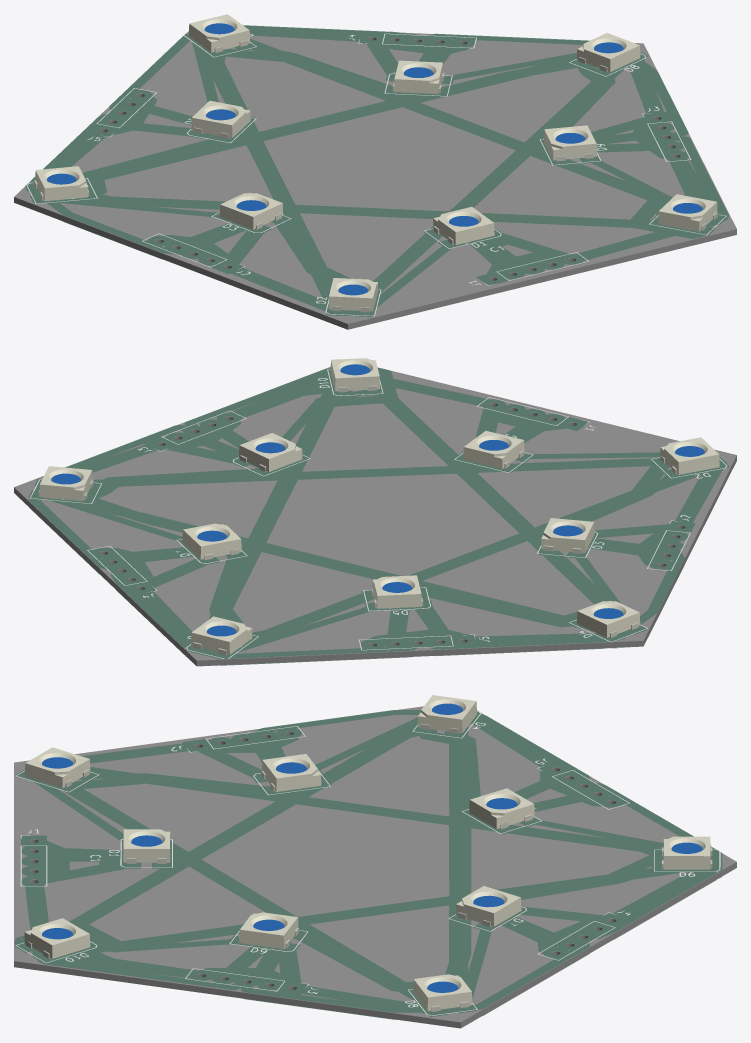
The picture shows the model from 3 angles, top to bottom: view 1: azimuth 30°, elevation 25°; view 2: azimuth 150°, elevation 25°; view 3: azimuth 270°, elevation 25°; orthographic projection. The views are drawn at different scales.
Parts seen in each view (by area): view 1: =>[0:1:1:5], =>[0:1:1:4], =>[0:1:1:3], D8, D3, D6, D1, D10, D5, D4, D9, D7 (+1 smaller); view 2: =>[0:1:1:5], =>[0:1:1:4], =>[0:1:1:3], D9, D4, D1, D6, D7, D2, D8, D3, D5 (+1 smaller); view 3: =>[0:1:1:5], =>[0:1:1:4], =>[0:1:1:3], D5, D2, D10, D7, D3, D4, D9, D8, D6 (+1 smaller).
Boxes of the visible parts, left/top/right/bottom form: =>[0:1:1:5]: left=14, top=26, right=736, bottom=329; =>[0:1:1:4]: left=21, top=25, right=729, bottom=316; =>[0:1:1:3]: left=26, top=32, right=726, bottom=316; D8: left=577, top=33, right=640, bottom=72; D3: left=219, top=193, right=283, bottom=229; D6: left=189, top=14, right=250, bottom=52; D1: left=433, top=206, right=494, bottom=244; D10: left=658, top=194, right=717, bottom=231; D5: left=191, top=100, right=250, bottom=138; D4: left=34, top=166, right=89, bottom=201; D9: left=544, top=125, right=596, bottom=161; D7: left=392, top=60, right=444, bottom=93; =>[0:1:1:5]: left=14, top=367, right=736, bottom=666; =>[0:1:1:4]: left=28, top=367, right=729, bottom=665; =>[0:1:1:3]: left=30, top=369, right=727, bottom=658; D9: left=239, top=433, right=302, bottom=471; D4: left=577, top=601, right=640, bottom=637; D1: left=463, top=431, right=524, bottom=468; D6: left=191, top=616, right=252, bottom=655; D7: left=182, top=523, right=241, bottom=560; D2: left=660, top=437, right=719, bottom=474; D8: left=38, top=466, right=93, bottom=501; D3: left=541, top=518, right=594, bottom=553; D5: left=371, top=575, right=423, bottom=608; =>[0:1:1:5]: left=14, top=706, right=736, bottom=1028; =>[0:1:1:4]: left=14, top=710, right=722, bottom=1019; =>[0:1:1:3]: left=15, top=711, right=720, bottom=1015; D5: left=469, top=788, right=534, bottom=829; D2: left=24, top=747, right=90, bottom=787; D10: left=24, top=918, right=90, bottom=958; D7: left=456, top=886, right=521, bottom=926; D3: left=261, top=754, right=321, bottom=791; D4: left=418, top=695, right=476, bottom=733; D9: left=239, top=912, right=298, bottom=949; D8: left=413, top=974, right=472, bottom=1011; D6: left=662, top=836, right=712, bottom=869.
Size of the model in its own units: 0.0809 by 0.00257 by 0.0769.
